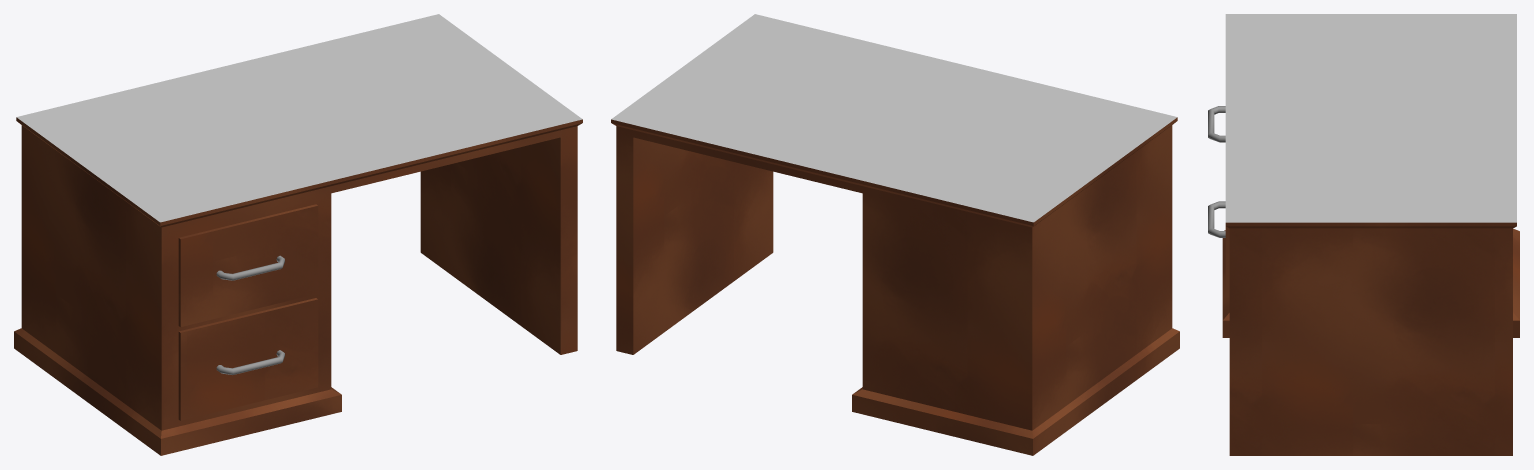
File: Desk.FBX
The picture shows the model from 3 angles, left to right: view 1: azimuth 30°, elevation 25°; view 2: azimuth 150°, elevation 25°; view 3: azimuth 270°, elevation 25°; orthographic projection.
Visible parts, largest first — view 1: Box001; view 2: Box001; view 3: Box001.
Part boxes in pixels (<box>): Box001: <box>14,14,582,455</box>; Box001: <box>611,14,1179,455</box>; Box001: <box>1208,14,1519,455</box>.
Size of the model in its own units: 122 by 64 by 77.02.
